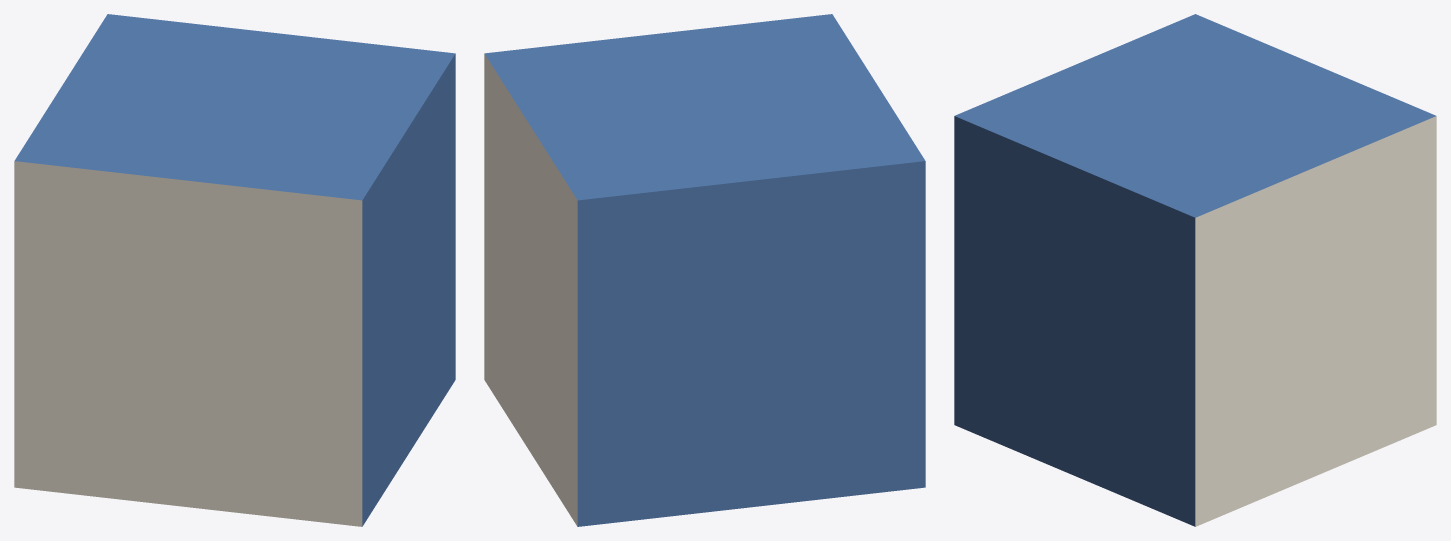
The model's file is room.glb.
The picture shows the model from 3 angles, left to right: view 1: azimuth 30°, elevation 25°; view 2: azimuth 150°, elevation 25°; view 3: azimuth 270°, elevation 25°; orthographic projection. The views are drawn at different scales.
Parts seen in each view (by area): view 1: stage-mask; view 2: stage-mask; view 3: stage-mask.
Boxes of the visible parts, left/top/right/bottom form: stage-mask: left=14, top=14, right=455, bottom=526; stage-mask: left=484, top=14, right=925, bottom=526; stage-mask: left=954, top=14, right=1436, bottom=526.
Size of what is drawn, in the model's own units: 14.71 by 10.4 by 14.71.
